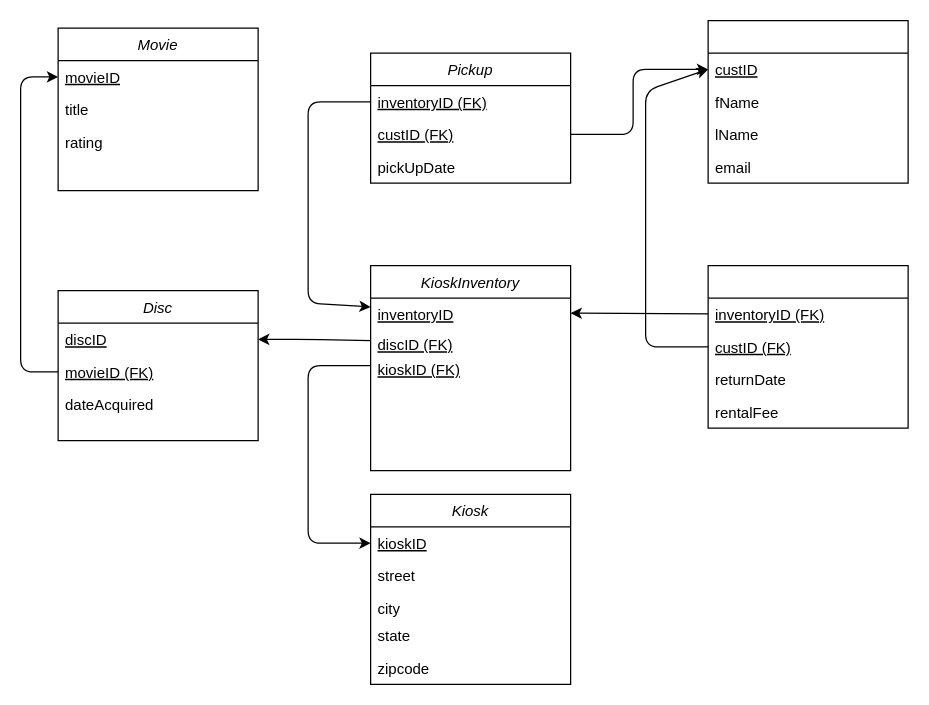
The diagram is 929 pixels wide and 705 high, and some of its shapes have lost their labels. The shapes that lost their labels are listed below. From the top down, each one's box as (x1, y1, x2, y2) in pixels, then its label:
(707, 19, 908, 183): Customer
(707, 264, 908, 428): Returns
